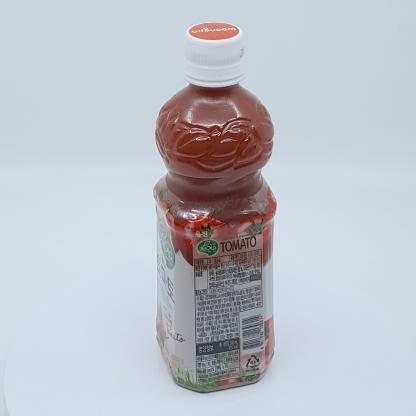--------500ML: (152, 21, 278, 394)
